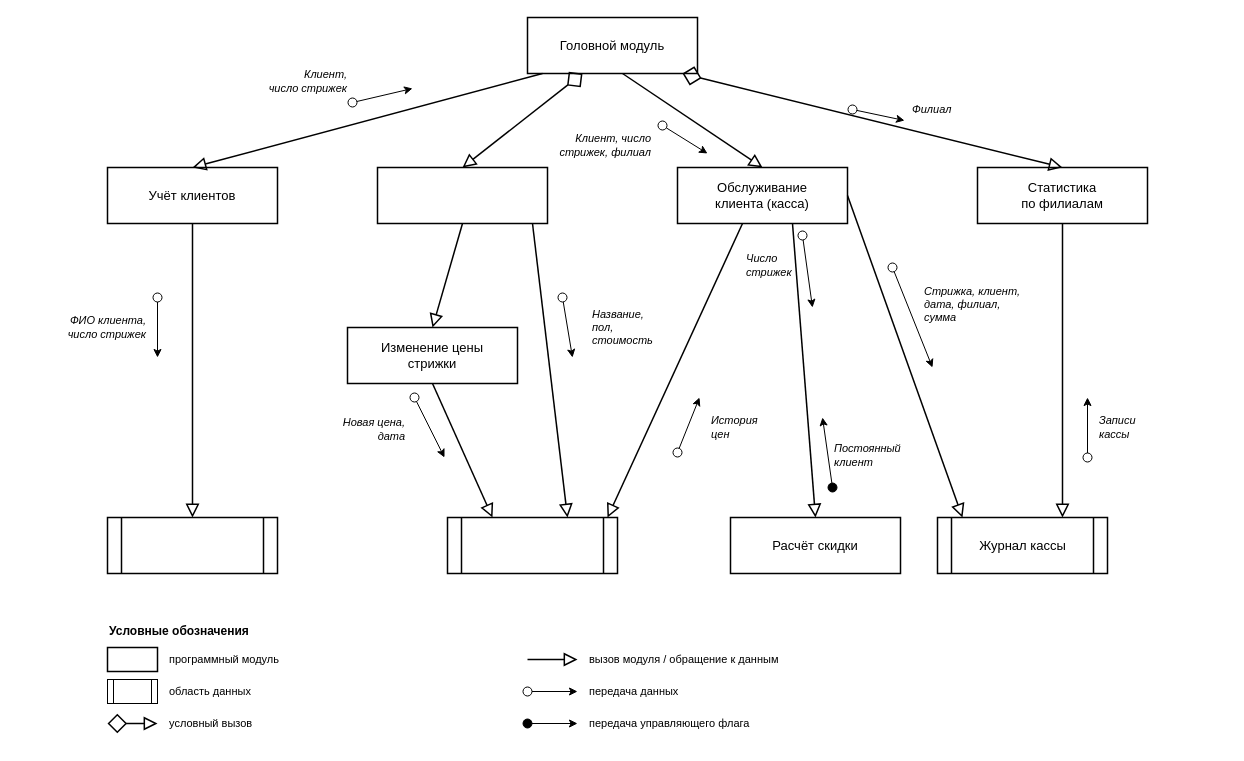
This 1244x761 diagram has some shape labels left out. The box of each missing label's shape, as (x1, y1, x2, y2) in pixels:
Ведение каталога стрижек: (376, 166, 548, 224)
Данные клиентов: (106, 516, 278, 574)
Стрижки и история цен: (446, 516, 618, 574)
